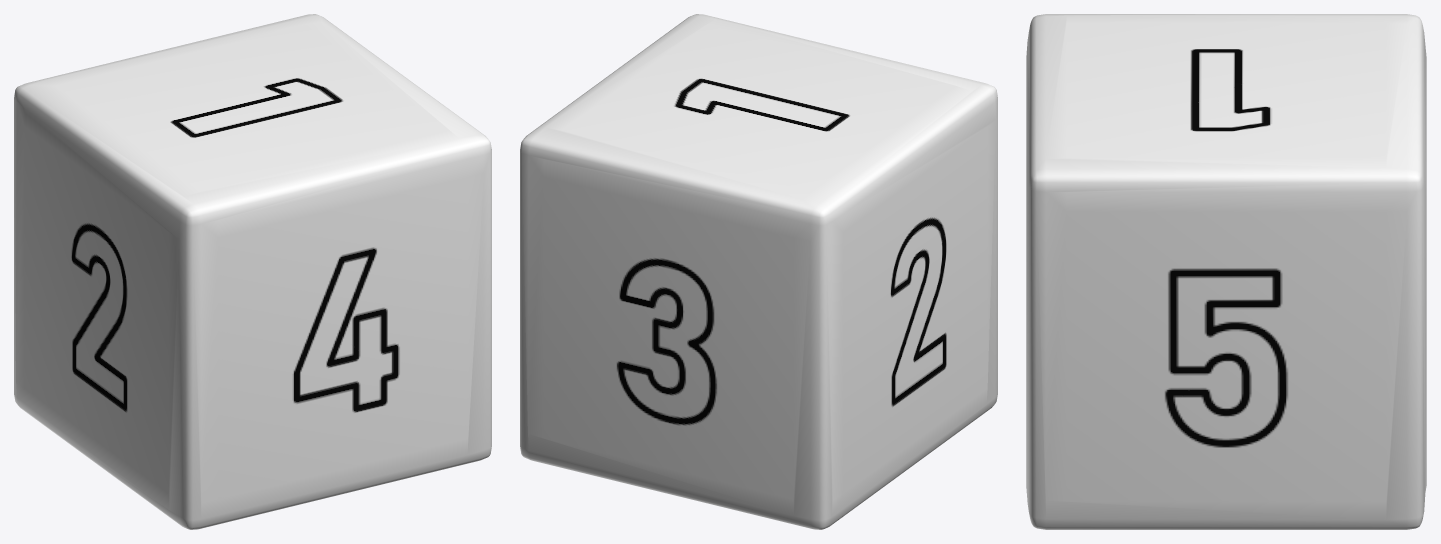
3 renders of one model, left to right at view 1: azimuth 30°, elevation 25°; view 2: azimuth 150°, elevation 25°; view 3: azimuth 270°, elevation 25°, orthographic. The views are drawn at different scales.
Parts seen in each view (by area): view 1: Solid.002; view 2: Solid.002; view 3: Solid.002.
Part boxes in pixels (x1,y1,x2,y2): Solid.002: (14,14,491,529); Solid.002: (520,14,997,529); Solid.002: (1026,14,1426,529).
Size of the model in its own units: 1.13 by 1.13 by 1.13.
1 material, 1 textured.
